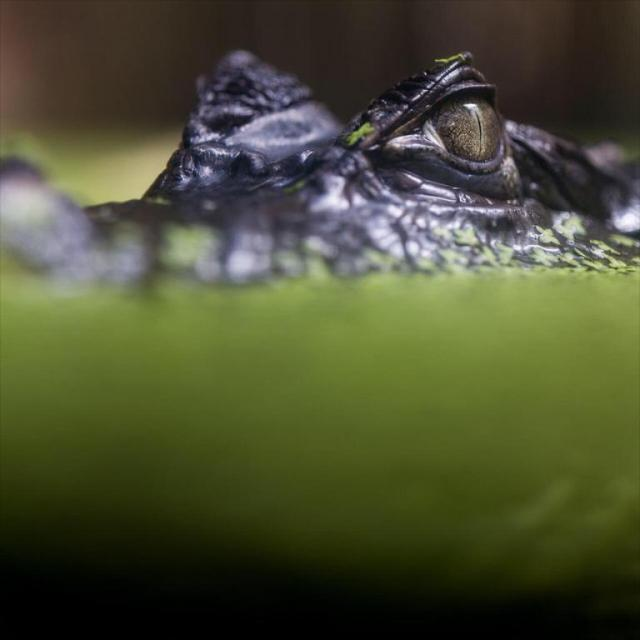crocodile: (0, 40, 639, 286)
